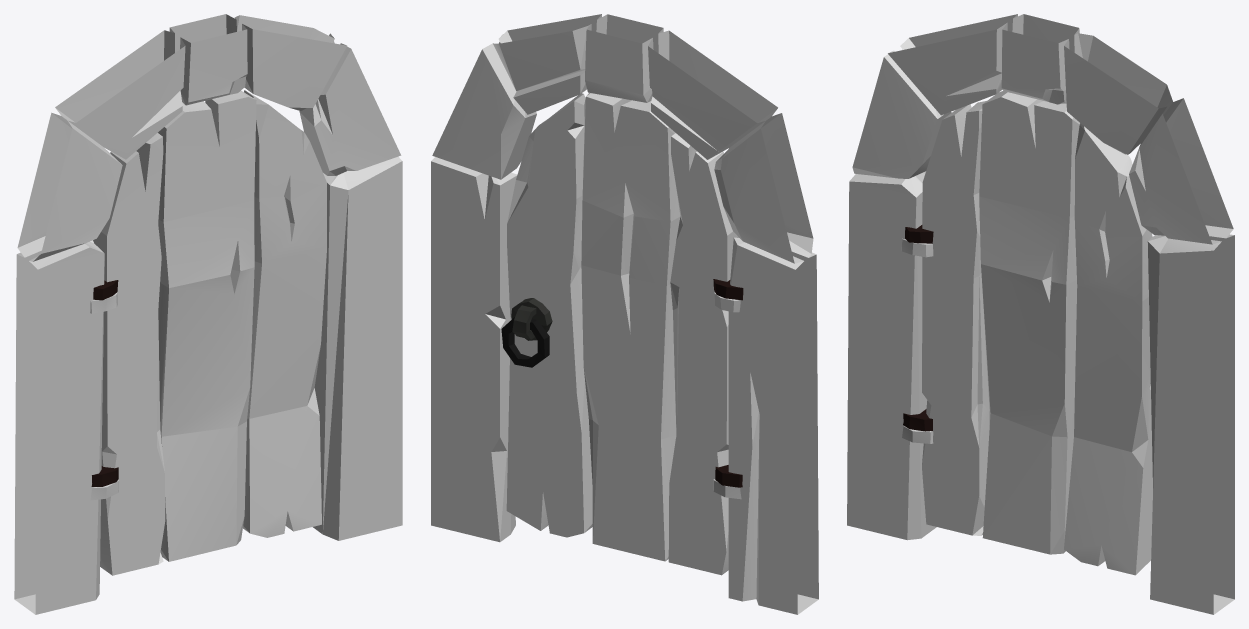
Rendered from NGF_Env_Door_arc_03.fbx.
The picture shows the model from 3 angles, left to right: view 1: azimuth 30°, elevation 25°; view 2: azimuth 150°, elevation 25°; view 3: azimuth 330°, elevation 25°; orthographic projection.
Visible parts, largest first — view 1: NGF_Env_Door_arc_03, NGF_Env_Door_03, NGF_Env_Hinges_07, NGF_Env_Hinges_01; view 2: NGF_Env_Door_arc_03, NGF_Env_Door_03, NGF_Env_Handle_01, NGF_Env_Handle_attachment_01, NGF_Env_Hinges_07, NGF_Env_Hinges_01; view 3: NGF_Env_Door_03, NGF_Env_Door_arc_03, NGF_Env_Hinges_07, NGF_Env_Hinges_01.
Part boxes in pixels (bbox=[...]): NGF_Env_Door_arc_03: bbox=[14, 14, 402, 614]; NGF_Env_Door_03: bbox=[93, 90, 326, 575]; NGF_Env_Hinges_07: bbox=[91, 280, 118, 486]; NGF_Env_Hinges_01: bbox=[90, 292, 118, 500]; NGF_Env_Door_arc_03: bbox=[431, 14, 818, 614]; NGF_Env_Door_03: bbox=[506, 93, 738, 575]; NGF_Env_Handle_01: bbox=[501, 317, 549, 367]; NGF_Env_Handle_attachment_01: bbox=[511, 298, 552, 340]; NGF_Env_Hinges_07: bbox=[713, 279, 743, 487]; NGF_Env_Hinges_01: bbox=[713, 292, 741, 499]; NGF_Env_Door_03: bbox=[922, 90, 1152, 575]; NGF_Env_Door_arc_03: bbox=[847, 14, 1234, 614]; NGF_Env_Hinges_07: bbox=[903, 225, 933, 431]; NGF_Env_Hinges_01: bbox=[901, 238, 933, 443].
Size of the model in its own units: 2 by 2.78 by 0.3381.
Materials: 1 (1 with a texture image).
